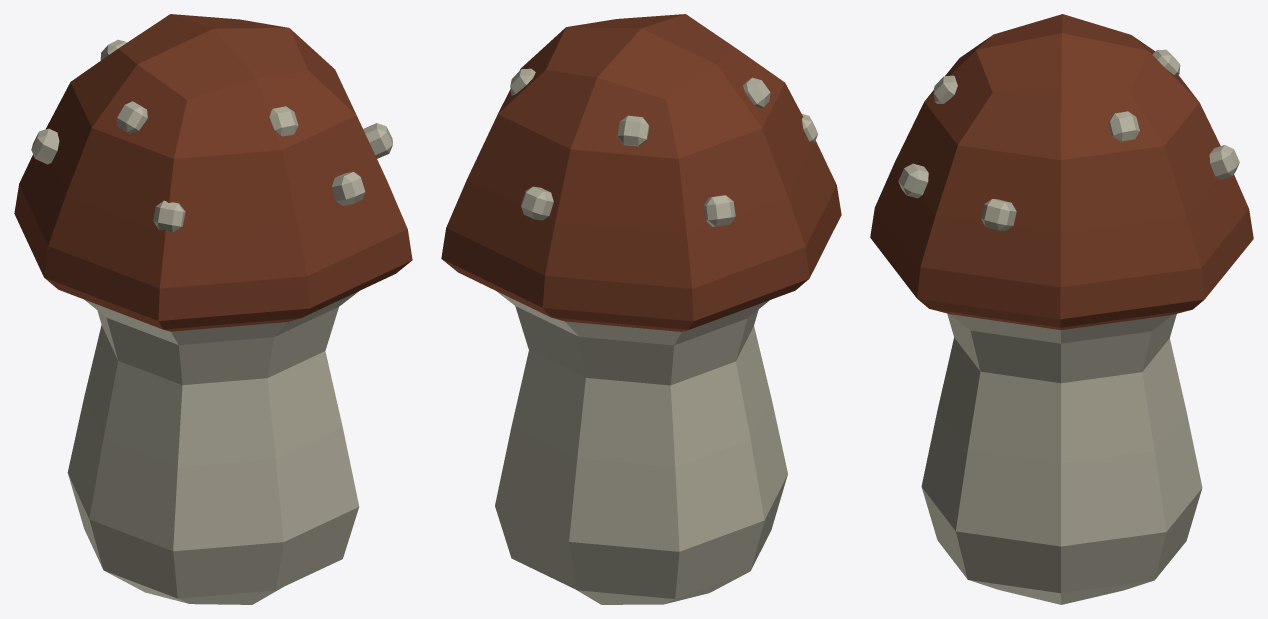
File: mushroom_2.glb
3 renders of one model, left to right at view 1: azimuth 30°, elevation 25°; view 2: azimuth 150°, elevation 25°; view 3: azimuth 270°, elevation 25°, orthographic.
Visible parts, largest first — view 1: Mushroom_2; view 2: Mushroom_2; view 3: Mushroom_2.
Boxes of the visible parts, x1,y1,x2,y2 form: Mushroom_2: (14, 14, 412, 604); Mushroom_2: (441, 14, 841, 604); Mushroom_2: (870, 14, 1253, 604).
Bounding box in the file's own units: 0.1415 × 0.2237 × 0.1415.
